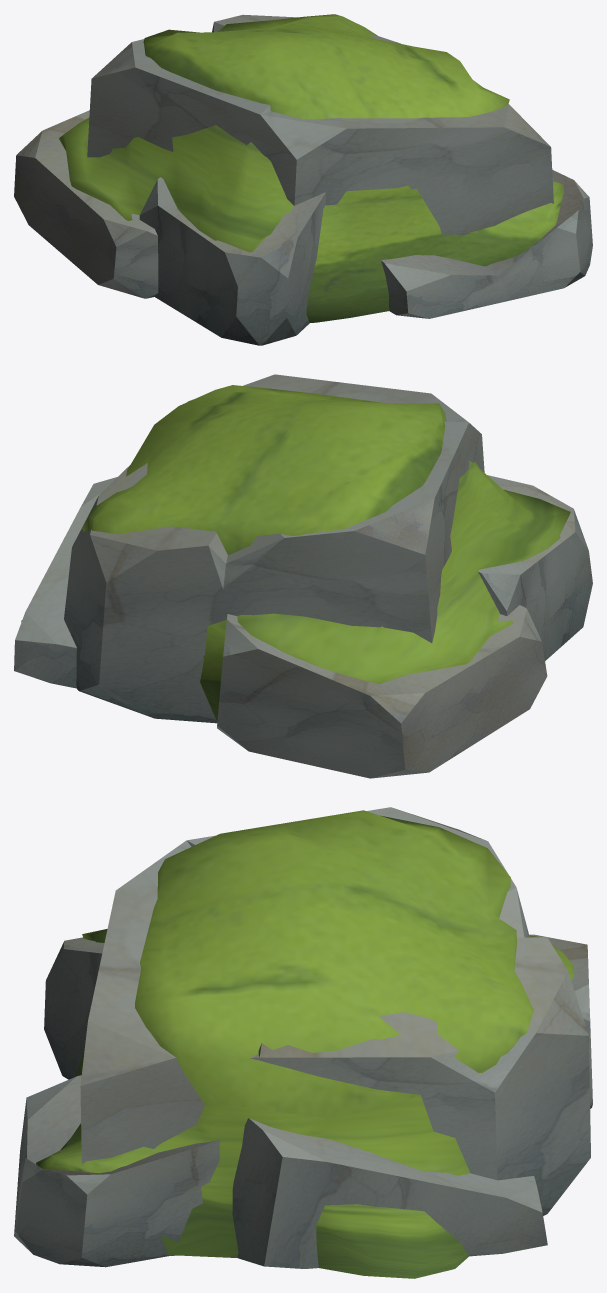
File: rockforest001.glb
3 renders of one model, top to bottom at view 1: azimuth 30°, elevation 25°; view 2: azimuth 150°, elevation 25°; view 3: azimuth 270°, elevation 25°, orthographic. The views are drawn at different scales.
Visible parts, largest first — view 1: rockForest001; view 2: rockForest001; view 3: rockForest001.
Boxes of the visible parts, x1,y1,x2,y2 form: rockForest001: [14, 14, 592, 345]; rockForest001: [14, 374, 592, 778]; rockForest001: [14, 807, 592, 1278].
Size of the model in its own units: 0.9029 by 0.4422 by 0.8329.
1 material, 1 textured.
